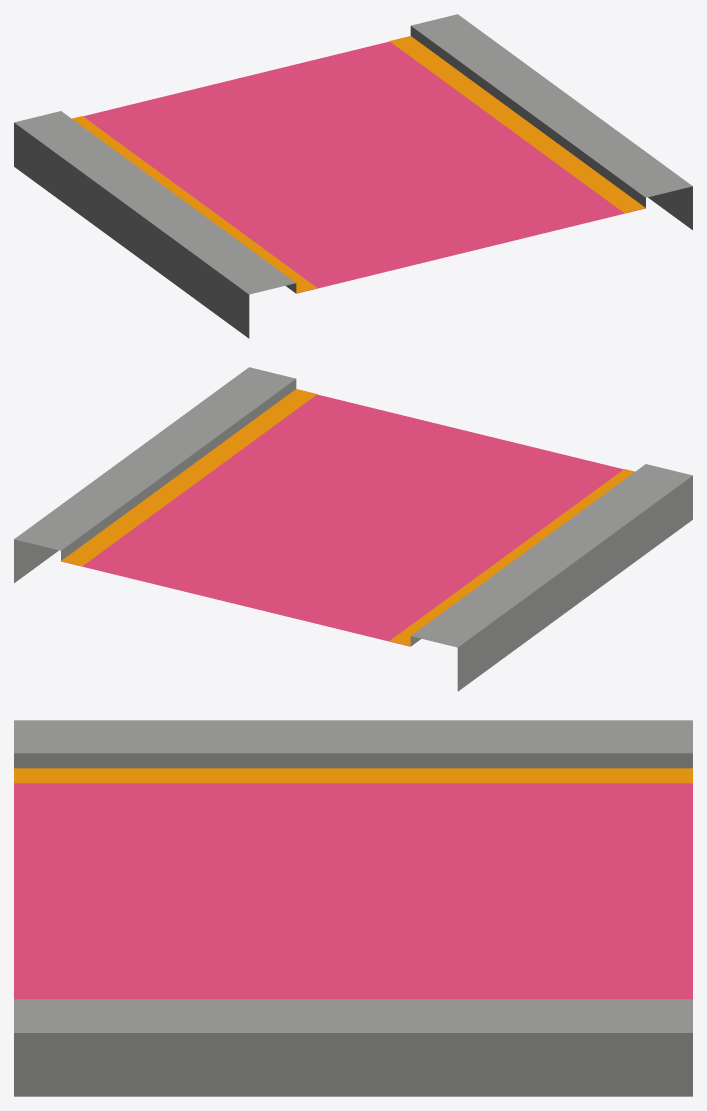
File: Road_B_12.fbx
3 renders of one model, top to bottom at view 1: azimuth 30°, elevation 25°; view 2: azimuth 150°, elevation 25°; view 3: azimuth 270°, elevation 25°, orthographic. The views are drawn at different scales.
Visible parts, largest first — view 1: Road_B_12; view 2: Road_B_12; view 3: Road_B_12.
Boxes of the visible parts, x1,y1,x2,y2 form: Road_B_12: [14, 14, 692, 338]; Road_B_12: [14, 367, 692, 691]; Road_B_12: [14, 720, 692, 1096].
Bounding box in the file's own units: 436 × 41.48 × 400.
